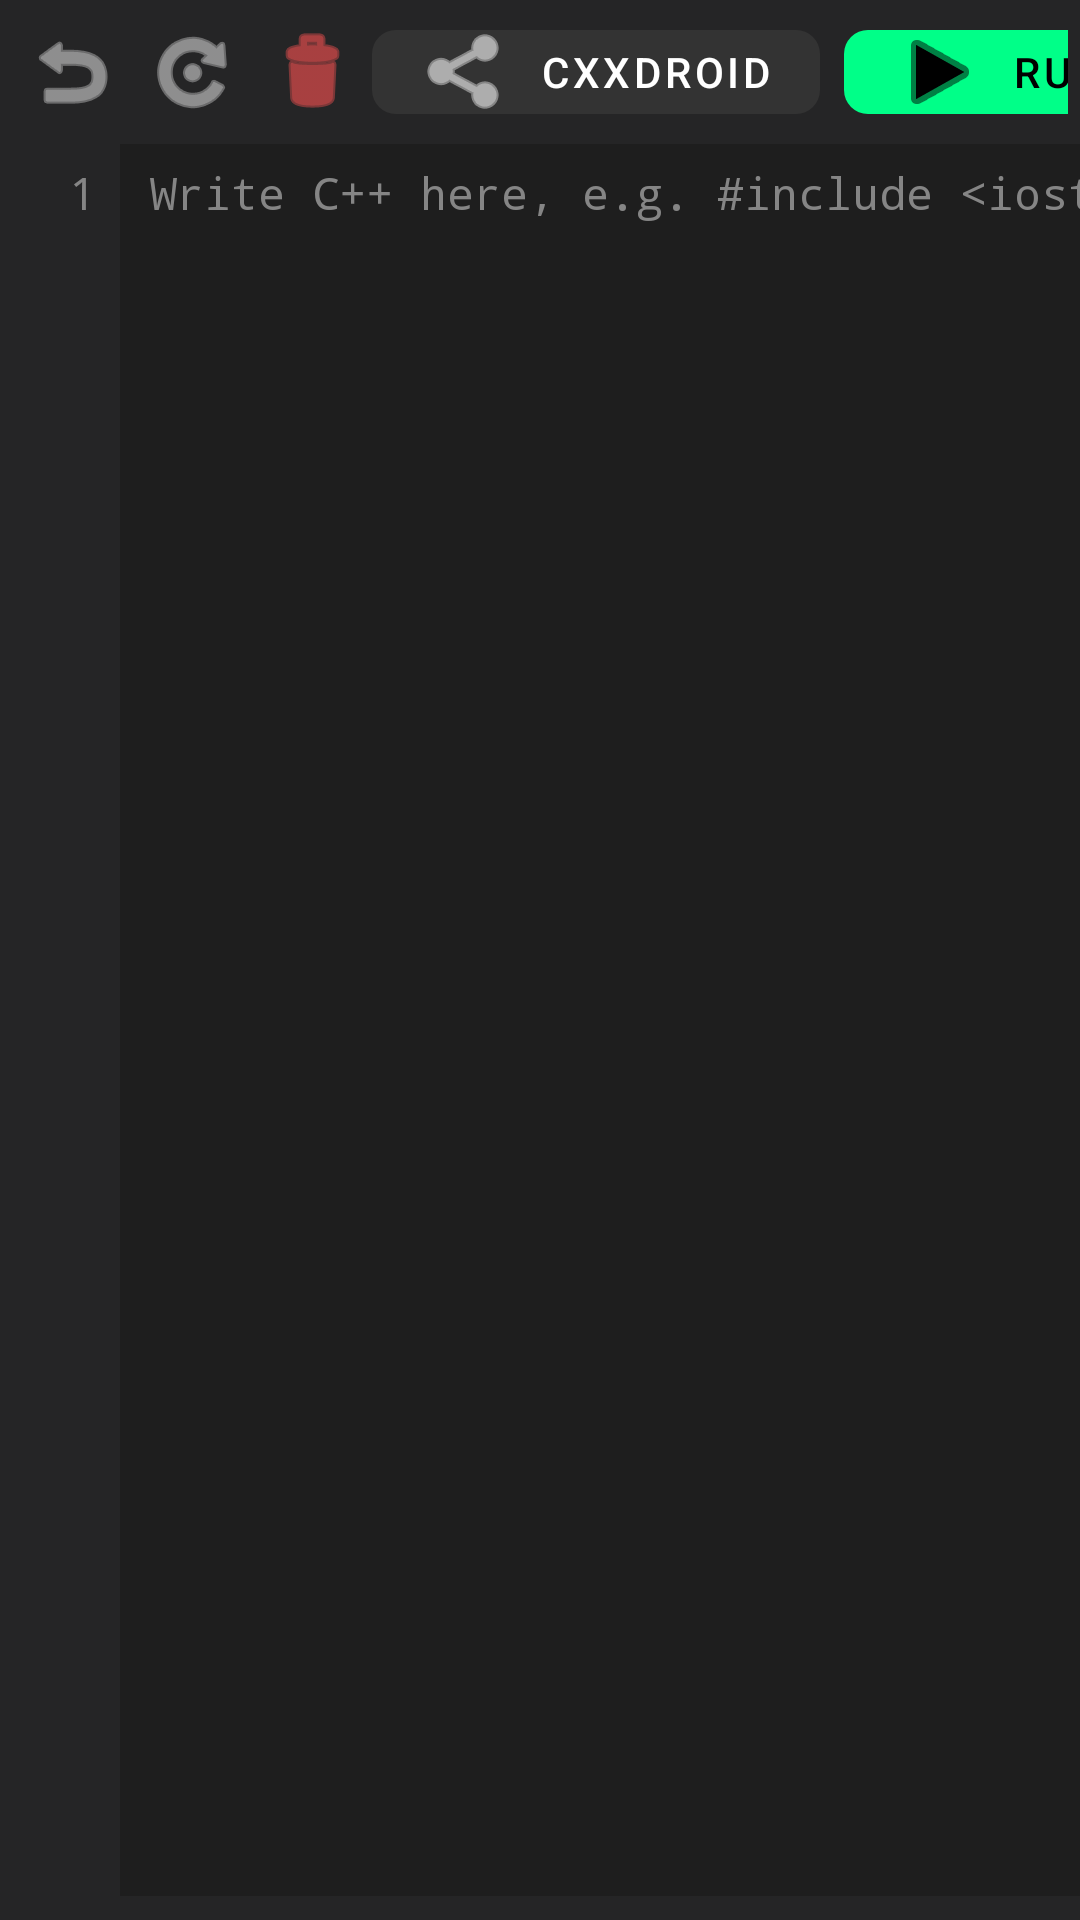

Icons on this 1080px×1920px Android screen, each with its box as (x1, y1, x2, y2):
delete: (285, 33, 340, 108)
revert: (39, 41, 108, 104)
rotate: (157, 37, 227, 108)
